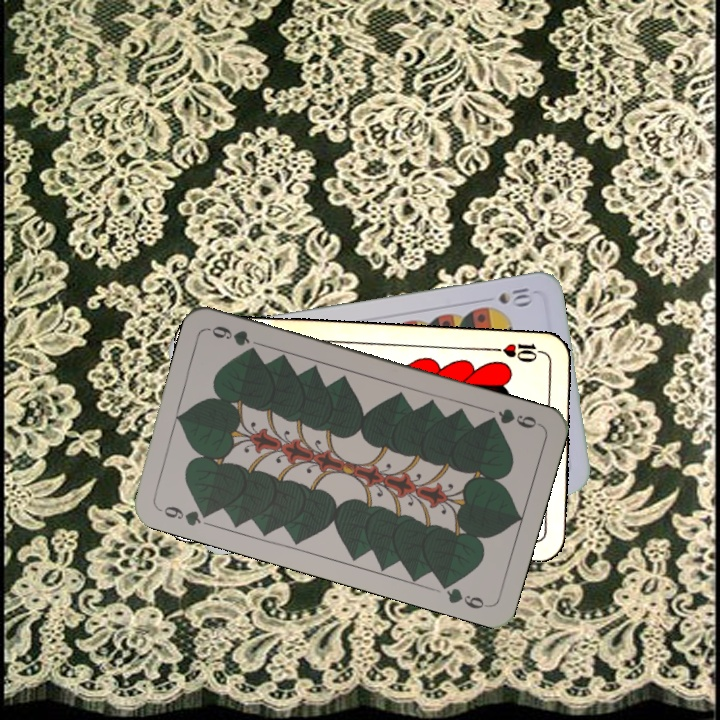G9: (482, 404, 543, 431), (154, 502, 214, 529)
H10: (489, 339, 548, 365)
S10: (494, 284, 533, 308)
